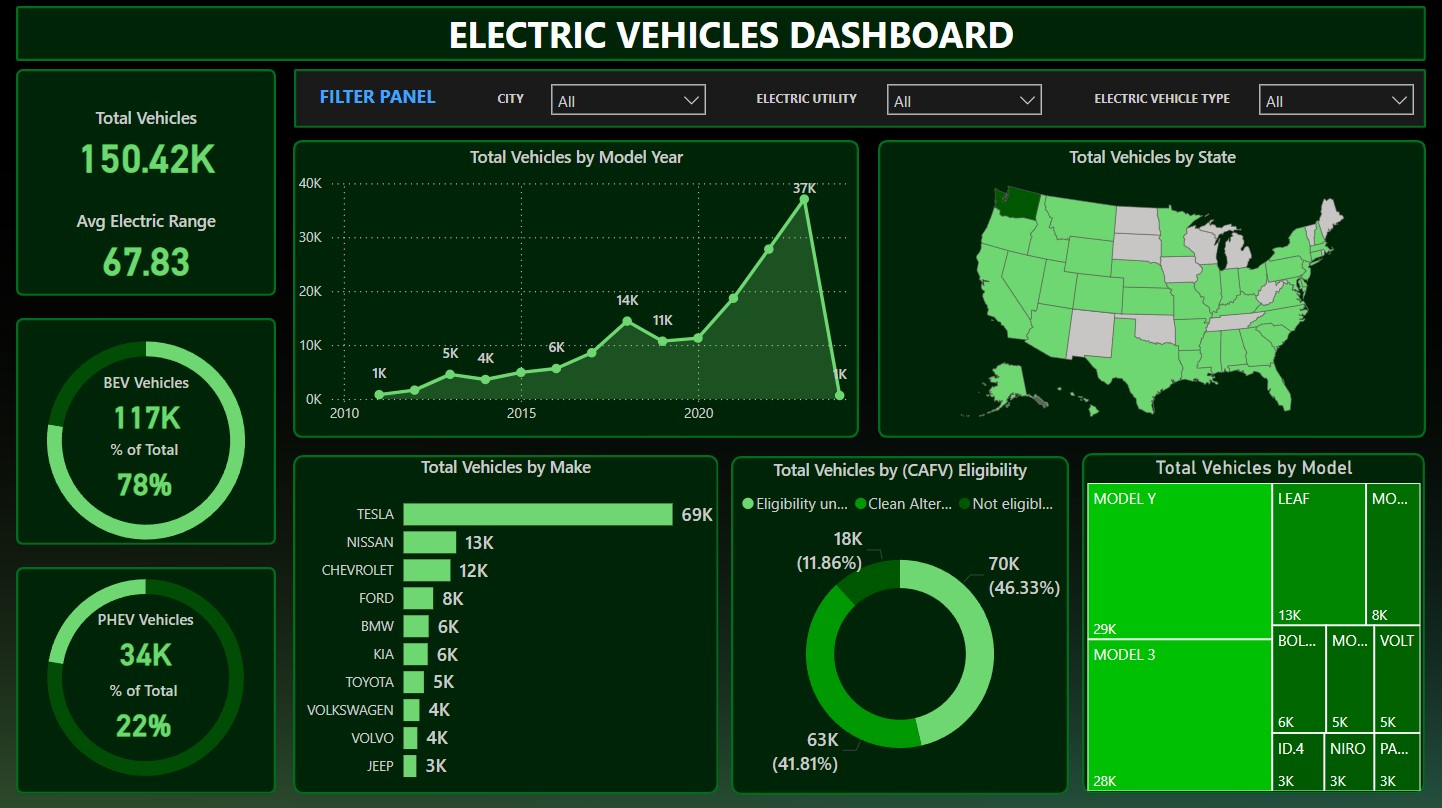

The page's visual inventory and layout, read from the dashboard file:
{"tool":"powerbi","page":{"name":"Page 1","canvas":[1280,720],"ordinal":0},"visuals":[{"type":"shape","box":[15.1,6.2,1250.2,48.8],"z":0},{"type":"textbox","box":[381.3,3.5,535.6,55],"z":1000},{"type":"shape","box":[15.1,62.1,230.5,201.3],"z":2000},{"type":"card","title":"Total Vehicles","fields":{"Values":["Electric_Vehicle_Population_Data.Total Vehicles"]},"box":[38.9,95.3,182.9,68.1],"z":3000},{"type":"card","title":"Avg Electric Range","fields":{"Values":["Avg(Electric_Vehicle_Population_Data.Electric Range)"]},"box":[38.9,185.8,182.9,68.1],"z":4000},{"type":"shape","box":[15.1,282.9,230.5,201.3],"z":5000},{"type":"shape","box":[15.1,503.6,230.5,201.3],"z":6000},{"type":"donutChart","fields":{"Category":["Electric_Vehicle_Population_Data.Electric Vehicle Type"],"Y":["Electric_Vehicle_Population_Data.Total Vehicles"]},"box":[0,276.7,260.7,229.7],"z":7000},{"type":"card","title":"BEV Vehicles","fields":{"Values":["Electric_Vehicle_Population_Data.BEV Vehicles"]},"box":[65.6,330.7,129.5,61.2],"z":8000},{"type":"card","title":"% of Total","fields":{"Values":["Electric_Vehicle_Population_Data.% of BEV"]},"box":[63.8,389.9,130,61.3],"z":9000},{"type":"donutChart","fields":{"Category":["Electric_Vehicle_Population_Data.Electric Vehicle Type"],"Y":["Electric_Vehicle_Population_Data.Total Vehicles"]},"box":[0,488,259.9,228],"z":10000},{"type":"card","title":"% of Total","fields":{"Values":["Electric_Vehicle_Population_Data.% of PHEV"]},"box":[63.2,603.6,130.3,61.3],"z":11000},{"type":"card","title":"PHEV Vehicles","fields":{"Values":["Electric_Vehicle_Population_Data.PHEV Vehicles"]},"box":[64.7,540.9,130.3,61.2],"z":12000},{"type":"shape","box":[261.6,62.1,1003.7,52.3],"z":13000},{"type":"shape","box":[260.7,125,501.9,264.2],"z":14000},{"type":"areaChart","fields":{"Category":["Electric_Vehicle_Population_Data.Model Year"],"Y":["Electric_Vehicle_Population_Data.Total Vehicles"]},"box":[260.7,129.5,502.8,256.3],"z":15000},{"type":"shape","box":[779.4,125,485.9,264.2],"z":16000},{"type":"shapeMap","fields":{"Category":["Electric_Vehicle_Population_Data.State"],"Value":["Electric_Vehicle_Population_Data.Total Vehicles"]},"box":[780.3,129.5,485,257.1],"z":17000},{"type":"shape","box":[260.6,404.3,377.5,300.8],"z":18000},{"type":"barChart","fields":{"Category":["Electric_Vehicle_Population_Data.Make"],"Y":["Electric_Vehicle_Population_Data.Total Vehicles"]},"box":[260.6,404.3,377.5,300.8],"z":19000},{"type":"shape","box":[649.1,405.2,299.7,300.6],"z":20000},{"type":"shape","box":[960.3,402.6,304.1,302.4],"z":21000},{"type":"donutChart","title":"Total Vehicles by (CAFV) Eligibility","fields":{"Category":["Electric_Vehicle_Population_Data.Clean Alternative Fuel Vehicle (CAFV) Eligibility"],"Y":["Electric_Vehicle_Population_Data.Total Vehicles"]},"box":[649.1,407,299.7,298.8],"z":22000},{"type":"treemap","fields":{"Group":["Electric_Vehicle_Population_Data.Model"],"Values":["Electric_Vehicle_Population_Data.Total Vehicles"]},"box":[960.3,405.2,305,302.4],"z":23000},{"type":"slicer","fields":{"Values":["Electric_Vehicle_Population_Data.City"]},"box":[479.7,65.6,156.9,46.1],"z":25000},{"type":"textbox","box":[261.6,70,143.6,37.2],"z":25001},{"type":"textbox","box":[419.4,70,60.3,37.2],"z":25002},{"type":"slicer","fields":{"Values":["Electric_Vehicle_Population_Data.Electric Utility"]},"box":[777.6,65.6,156.9,46.1],"z":25003},{"type":"textbox","box":[649.1,70,128.6,37.2],"z":25004},{"type":"slicer","fields":{"Values":["Electric_Vehicle_Population_Data.Electric Vehicle Type"]},"box":[1107.5,65.6,156.9,46.1],"z":25005},{"type":"textbox","box":[948.8,70,164,37.2],"z":25006}]}

Visuals, with their boxes in screenshot pixels (x1, y1, x2, y2), scaled from the page's 1280x720 canvas onto the 1442x808 screenshot:
shape: left=17, top=7, right=1425, bottom=62
textbox: left=430, top=4, right=1033, bottom=66
shape: left=17, top=70, right=277, bottom=296
"Total Vehicles" card: left=44, top=107, right=250, bottom=183
"Avg Electric Range" card: left=44, top=209, right=250, bottom=285
shape: left=17, top=317, right=277, bottom=543
shape: left=17, top=565, right=277, bottom=791
donutChart - Electric_Vehicle_Population_Data.Electric Vehicle Type x Electric_Vehicle_Population_Data.Total Vehicles: left=0, top=311, right=294, bottom=568
"BEV Vehicles" card: left=74, top=371, right=220, bottom=440
"% of Total" card: left=72, top=438, right=218, bottom=506
donutChart - Electric_Vehicle_Population_Data.Electric Vehicle Type x Electric_Vehicle_Population_Data.Total Vehicles: left=0, top=548, right=293, bottom=804
"% of Total" card: left=71, top=677, right=218, bottom=746
"PHEV Vehicles" card: left=73, top=607, right=220, bottom=676
shape: left=295, top=70, right=1425, bottom=128
shape: left=294, top=140, right=859, bottom=437
areaChart - Electric_Vehicle_Population_Data.Model Year x Electric_Vehicle_Population_Data.Total Vehicles: left=294, top=145, right=860, bottom=433
shape: left=878, top=140, right=1425, bottom=437
shapeMap - Electric_Vehicle_Population_Data.State x Electric_Vehicle_Population_Data.Total Vehicles: left=879, top=145, right=1425, bottom=434
shape: left=294, top=454, right=719, bottom=791
barChart - Electric_Vehicle_Population_Data.Make x Electric_Vehicle_Population_Data.Total Vehicles: left=294, top=454, right=719, bottom=791
shape: left=731, top=455, right=1069, bottom=792
shape: left=1082, top=452, right=1424, bottom=791
"Total Vehicles by (CAFV) Eligibility" donutChart: left=731, top=457, right=1069, bottom=792
treemap - Electric_Vehicle_Population_Data.Model x Electric_Vehicle_Population_Data.Total Vehicles: left=1082, top=455, right=1425, bottom=794
slicer - Electric_Vehicle_Population_Data.City: left=540, top=74, right=717, bottom=125
textbox: left=295, top=79, right=456, bottom=120
textbox: left=472, top=79, right=540, bottom=120
slicer - Electric_Vehicle_Population_Data.Electric Utility: left=876, top=74, right=1053, bottom=125
textbox: left=731, top=79, right=876, bottom=120
slicer - Electric_Vehicle_Population_Data.Electric Vehicle Type: left=1248, top=74, right=1424, bottom=125
textbox: left=1069, top=79, right=1254, bottom=120
